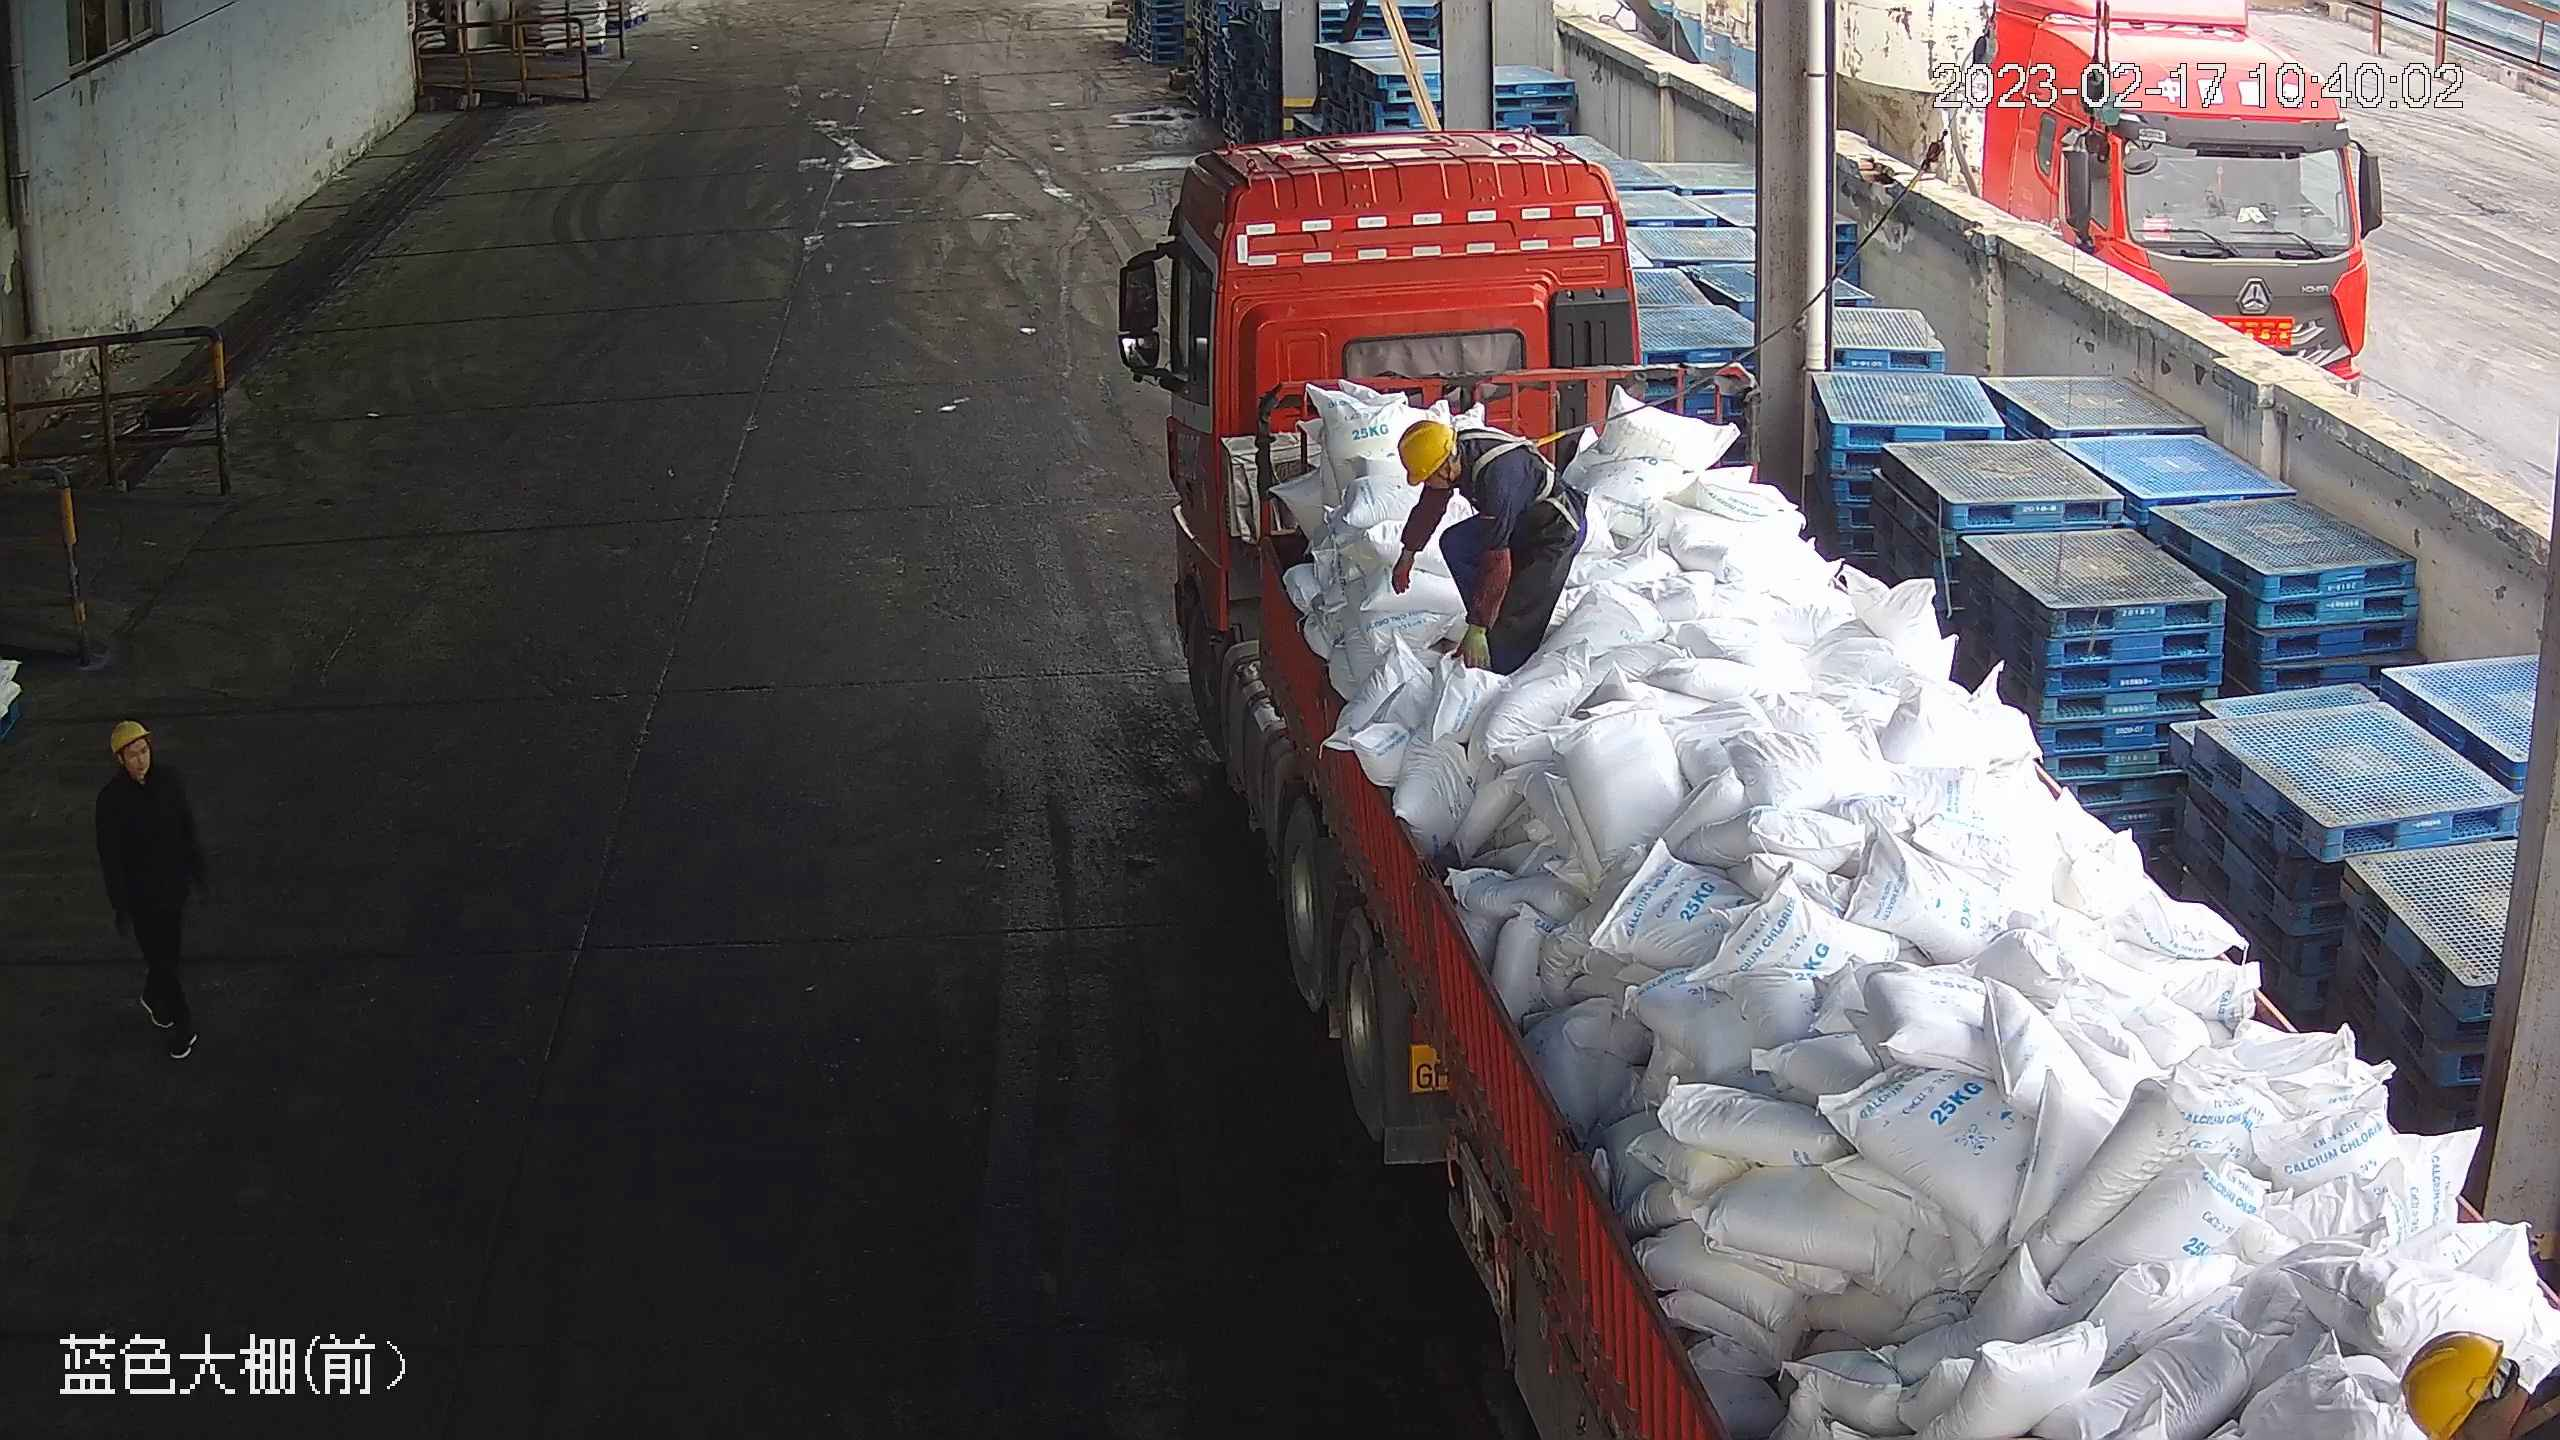belt: (1461, 418, 1557, 498), (2524, 1323, 2560, 1440)
head: (1394, 411, 1525, 520), (96, 717, 192, 815)
helmet: (2399, 1325, 2507, 1440), (1394, 413, 1453, 485), (101, 717, 150, 758)
people: (1387, 412, 1586, 675), (93, 713, 214, 1066)
truck: (1125, 146, 2557, 1439)
